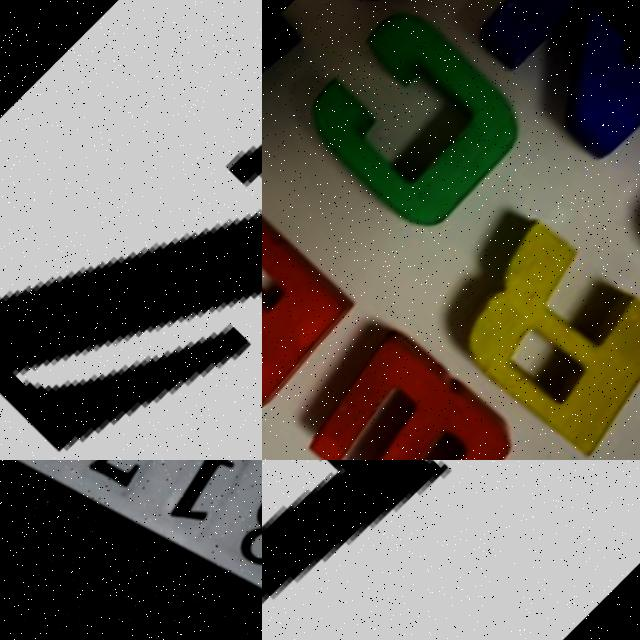1: (140, 460, 262, 558)
5: (262, 460, 640, 640)
7: (64, 460, 202, 520)
8: (210, 464, 262, 603)
C: (278, 0, 540, 245)
E: (262, 184, 377, 428)
R: (426, 200, 640, 460)
W: (287, 318, 555, 460)
Z: (0, 0, 262, 460)
